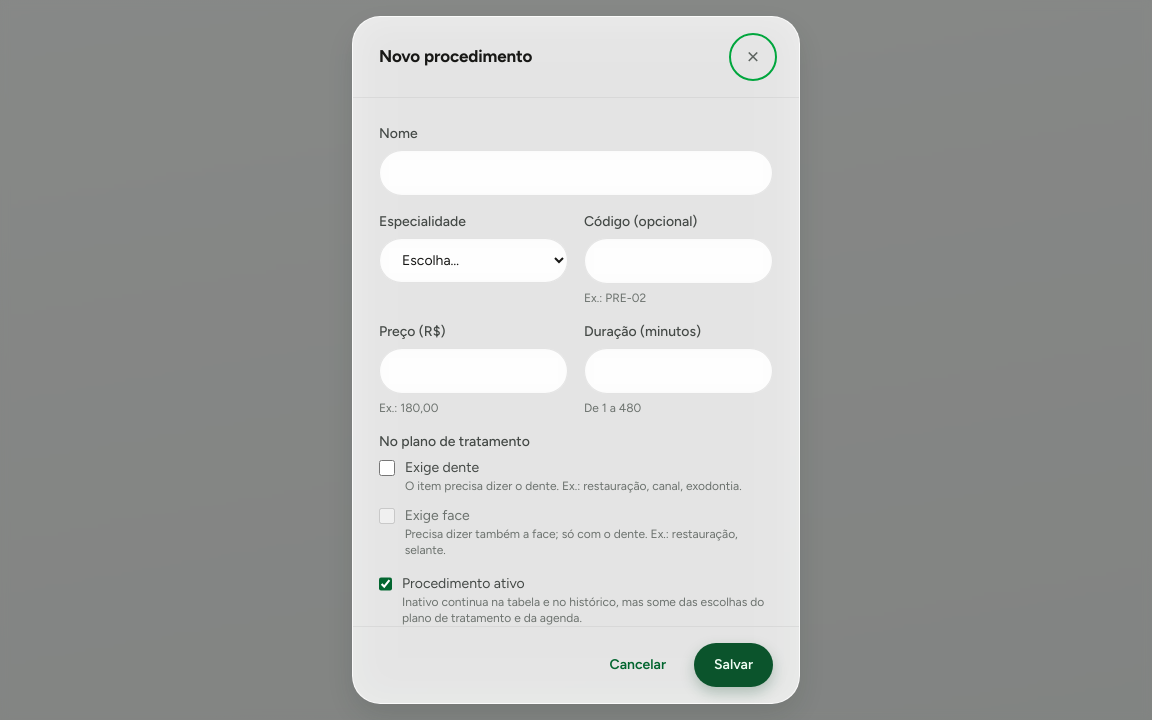
Test: cadastro de procedimento › a face só se marca com o dente: sem ele fica desabilitada, e desmarcar o dente desmarca a face
This screenshot has width=1152, height=720.
Check: the checkbox labelled "Exige face" is disabled, box 379,508 -> 395,524
Click the checkbox labelled "Exige dente": (387, 468) 379,460 -> 395,476
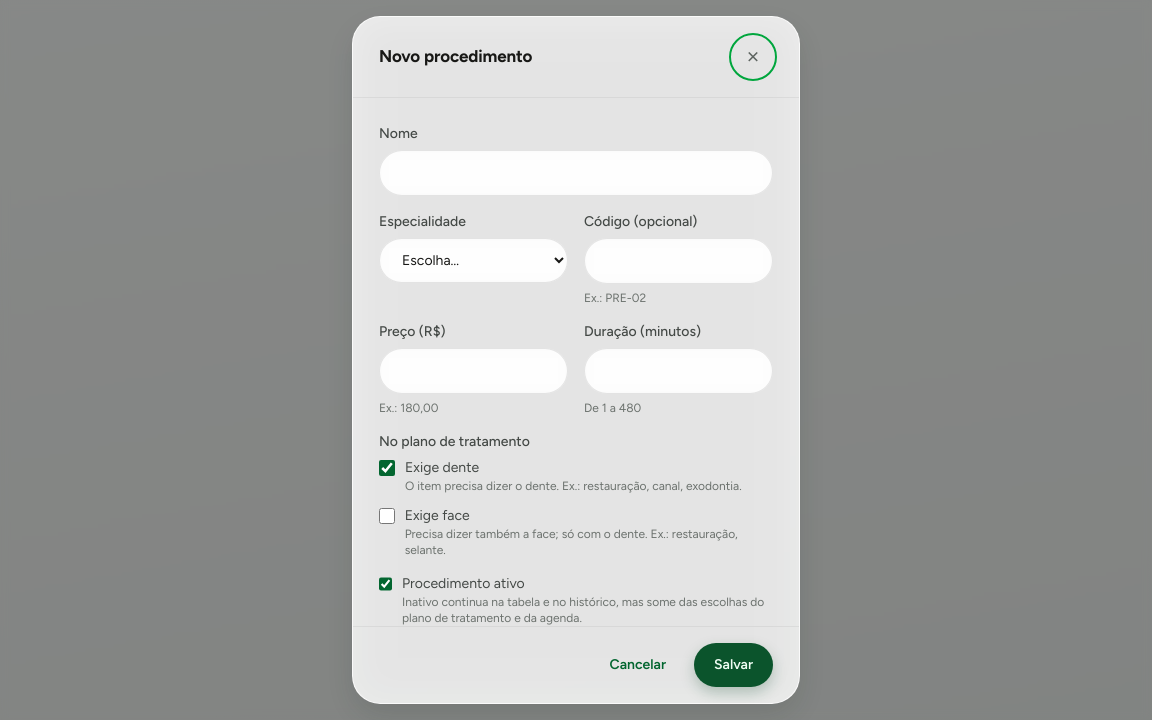
Check: the checkbox labelled "Exige face" is enabled
Click the checkbox labelled "Exige face": (387, 516) 379,508 -> 395,524
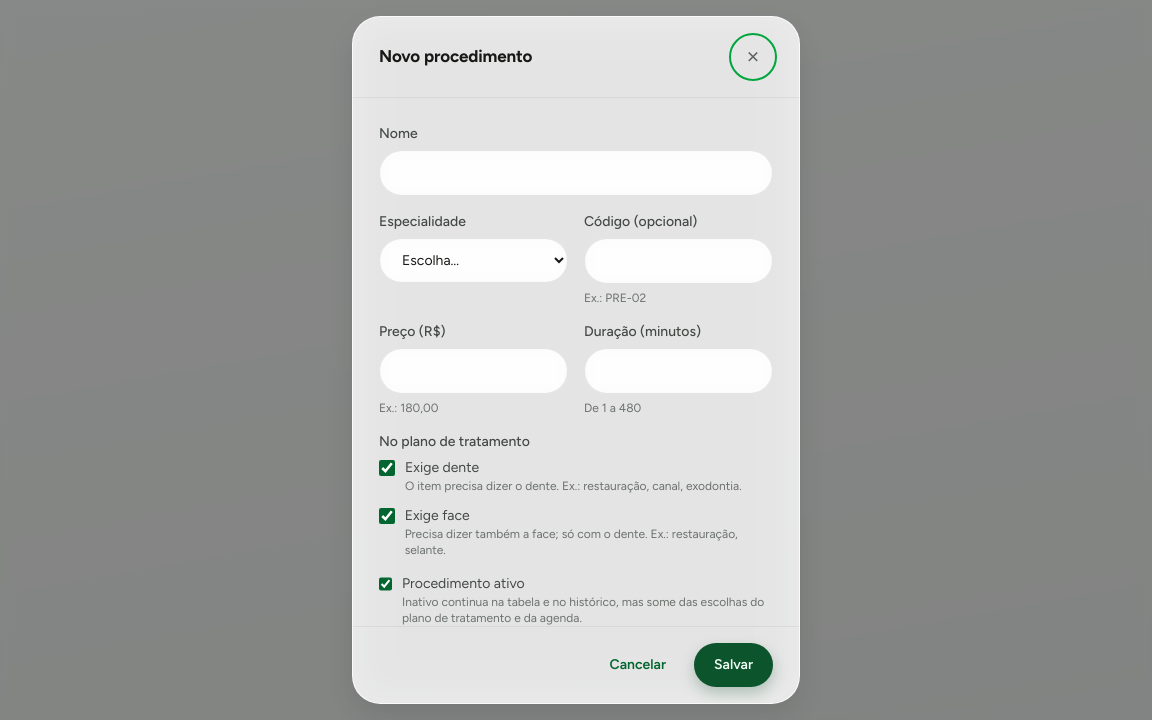
Check: the checkbox labelled "Exige face" is checked, box 379,508 -> 395,524
Click the checkbox labelled "Exige dente": (387, 468) 379,460 -> 395,476
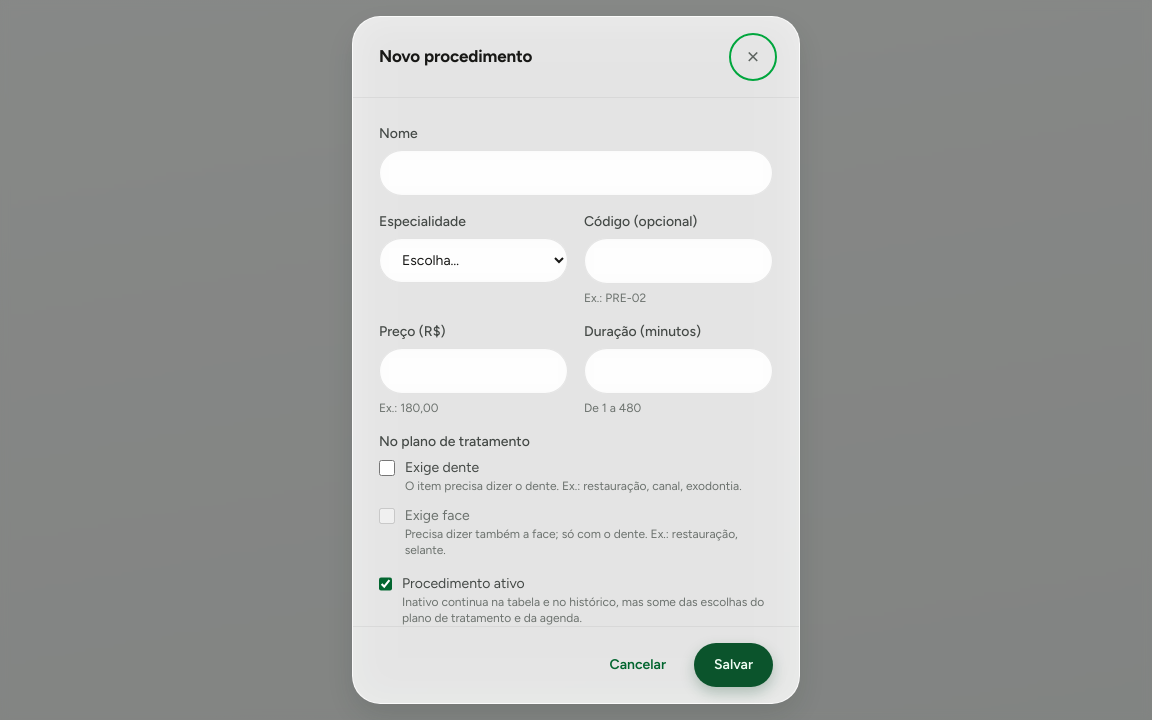
Check: the checkbox labelled "Exige face" is not checked, box 379,508 -> 395,524
Check: the checkbox labelled "Exige face" is disabled, box 379,508 -> 395,524
